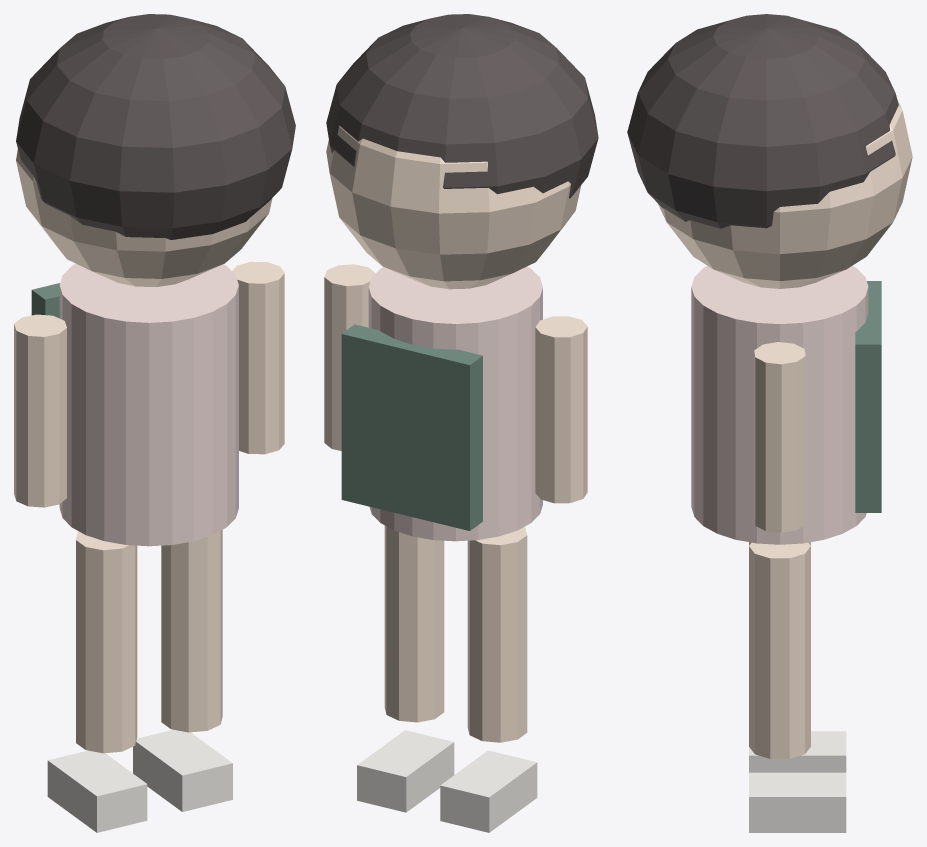
File: chibi-barista.glb
The picture shows the model from 3 angles, left to right: view 1: azimuth 30°, elevation 25°; view 2: azimuth 150°, elevation 25°; view 3: azimuth 270°, elevation 25°; orthographic projection. The views are drawn at different scales.
Visible parts, largest first — view 1: ChibiBarista; view 2: ChibiBarista; view 3: ChibiBarista.
Boxes of the visible parts, bbox=[...] form: ChibiBarista: bbox=[14, 14, 295, 832]; ChibiBarista: bbox=[324, 14, 598, 832]; ChibiBarista: bbox=[627, 14, 912, 832].
Size of the model in its own units: 0.6798 by 1.92 by 0.645.
